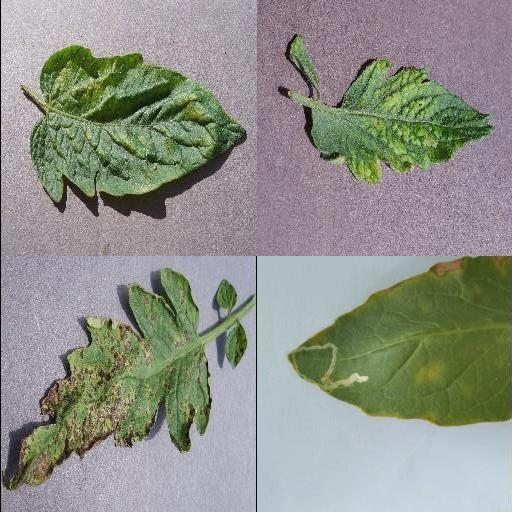Leaf Miner: (284, 256, 512, 427)
Mosaic Virus: (310, 56, 496, 190), (284, 29, 320, 93)
Septoria: (7, 267, 210, 491)
Spider Mites: (29, 45, 247, 203)
